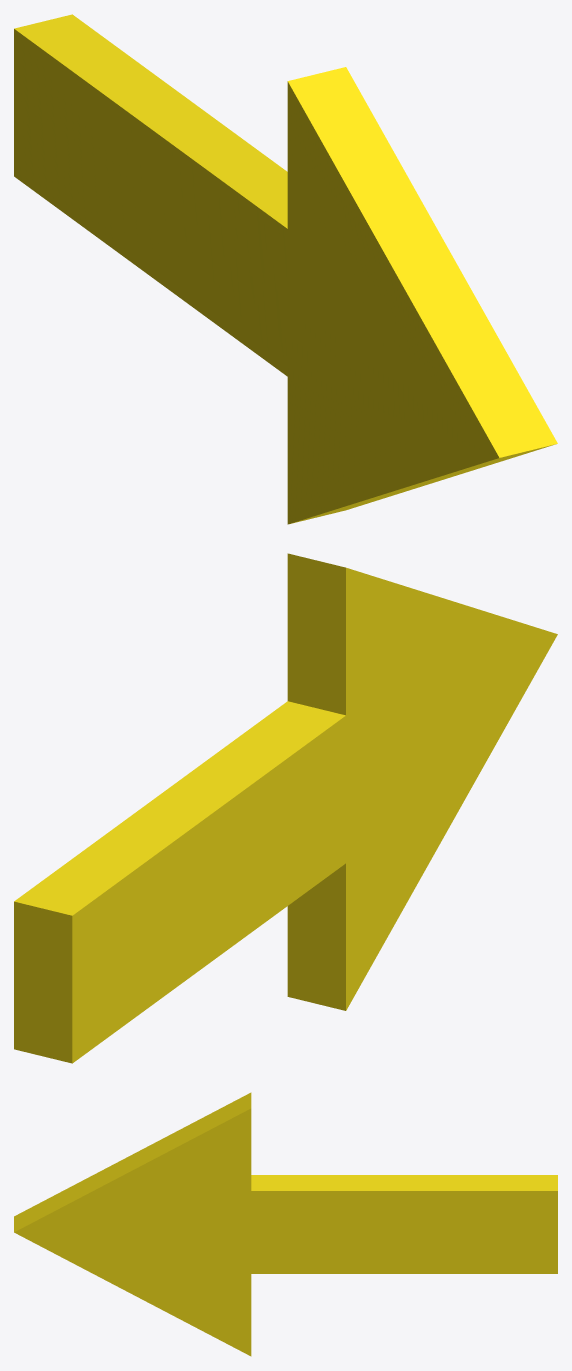
File: arrow.fbx
The picture shows the model from 3 angles, top to bottom: view 1: azimuth 30°, elevation 25°; view 2: azimuth 150°, elevation 25°; view 3: azimuth 270°, elevation 25°; orthographic projection. The views are drawn at different scales.
Parts seen in each view (by area): view 1: arrow; view 2: arrow; view 3: arrow.
Boxes of the visible parts, x1=… form: arrow: x1=14, y1=14, x2=557, y2=524; arrow: x1=14, y1=553, x2=557, y2=1063; arrow: x1=14, y1=1092, x2=557, y2=1356.
Bounding box in the file's own units: 2.39 × 17.34 × 34.42.
